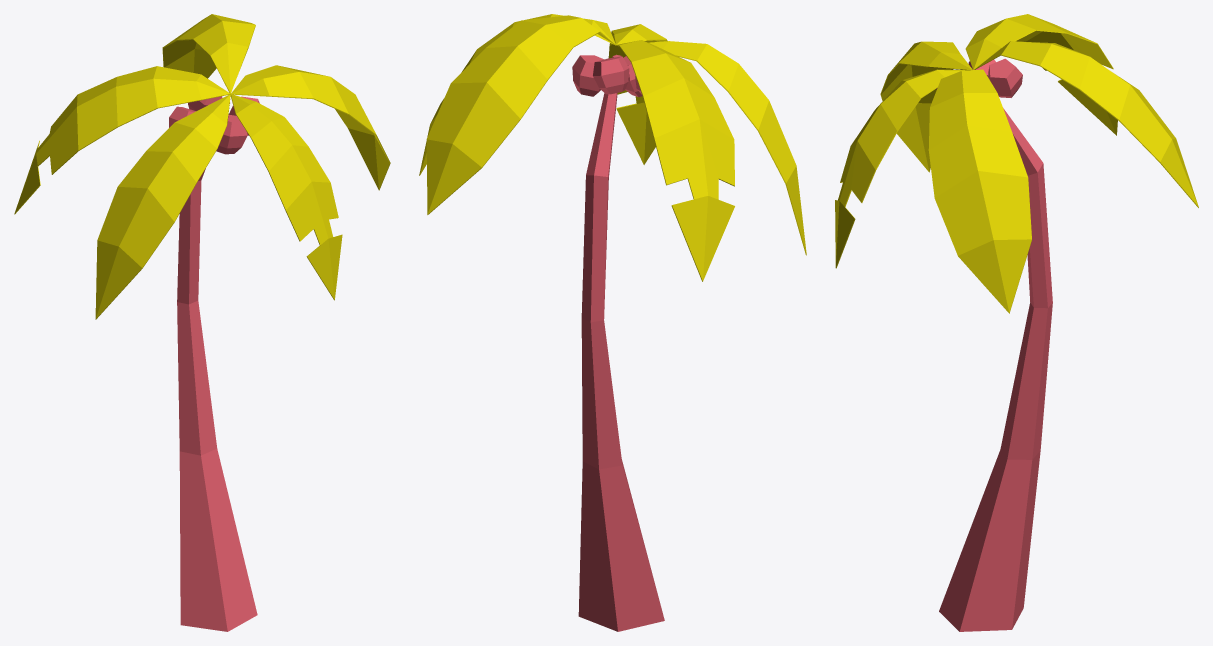
Rendered from tree-palm-big.fbx.
The picture shows the model from 3 angles, left to right: view 1: azimuth 30°, elevation 25°; view 2: azimuth 150°, elevation 25°; view 3: azimuth 270°, elevation 25°; orthographic projection. The views are drawn at different scales.
Parts seen in each view (by area): view 1: tree-palm-big; view 2: tree-palm-big; view 3: tree-palm-big.
Boxes of the visible parts, x1,y1,x2,y2 form: tree-palm-big: (14,14,390,631); tree-palm-big: (419,14,806,631); tree-palm-big: (835,14,1198,631).
Size of the model in its own units: 4.14 by 6.89 by 3.84.
